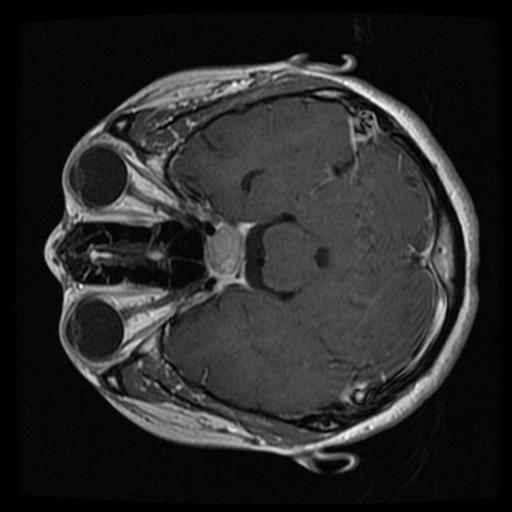pituitary tumour: (203, 225, 244, 281)
